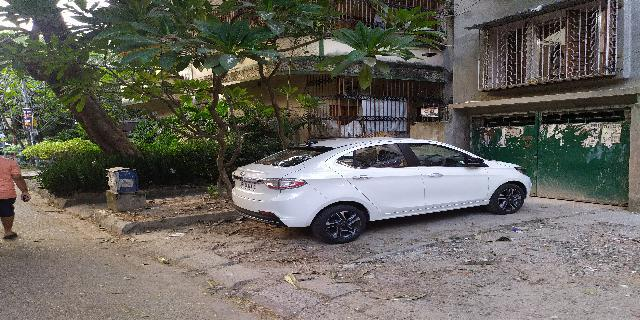Car: (230, 133, 536, 240)
